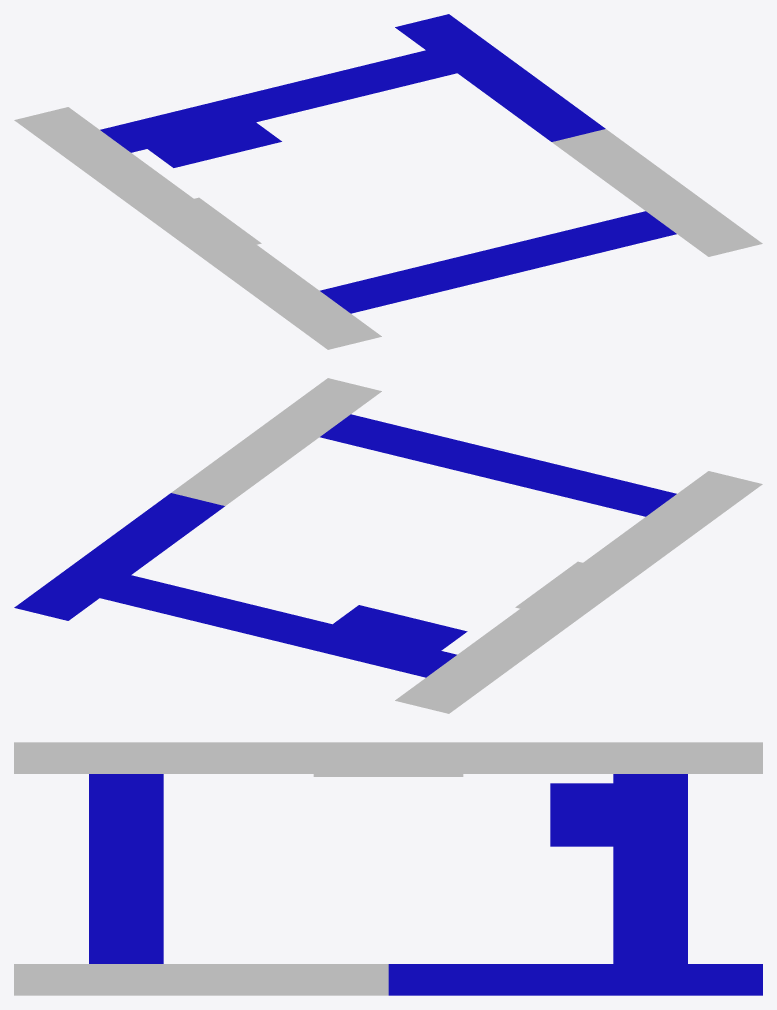
File: Road_low.fbx
3 views of the same model, one above another, from view 1: azimuth 30°, elevation 25°; view 2: azimuth 150°, elevation 25°; view 3: azimuth 270°, elevation 25° (orthographic). The views are drawn at different scales.
Parts seen in each view (by area): view 1: Road.01_l; view 2: Road.01_l; view 3: Road.01_l.
Boxes of the visible parts, x1=… form: Road.01_l: x1=14, y1=14, x2=762, y2=349; Road.01_l: x1=14, y1=378, x2=762, y2=713; Road.01_l: x1=14, y1=742, x2=762, y2=995.
Bounding box in the file's own units: 13600 × 17000 × 1.02e-12.
